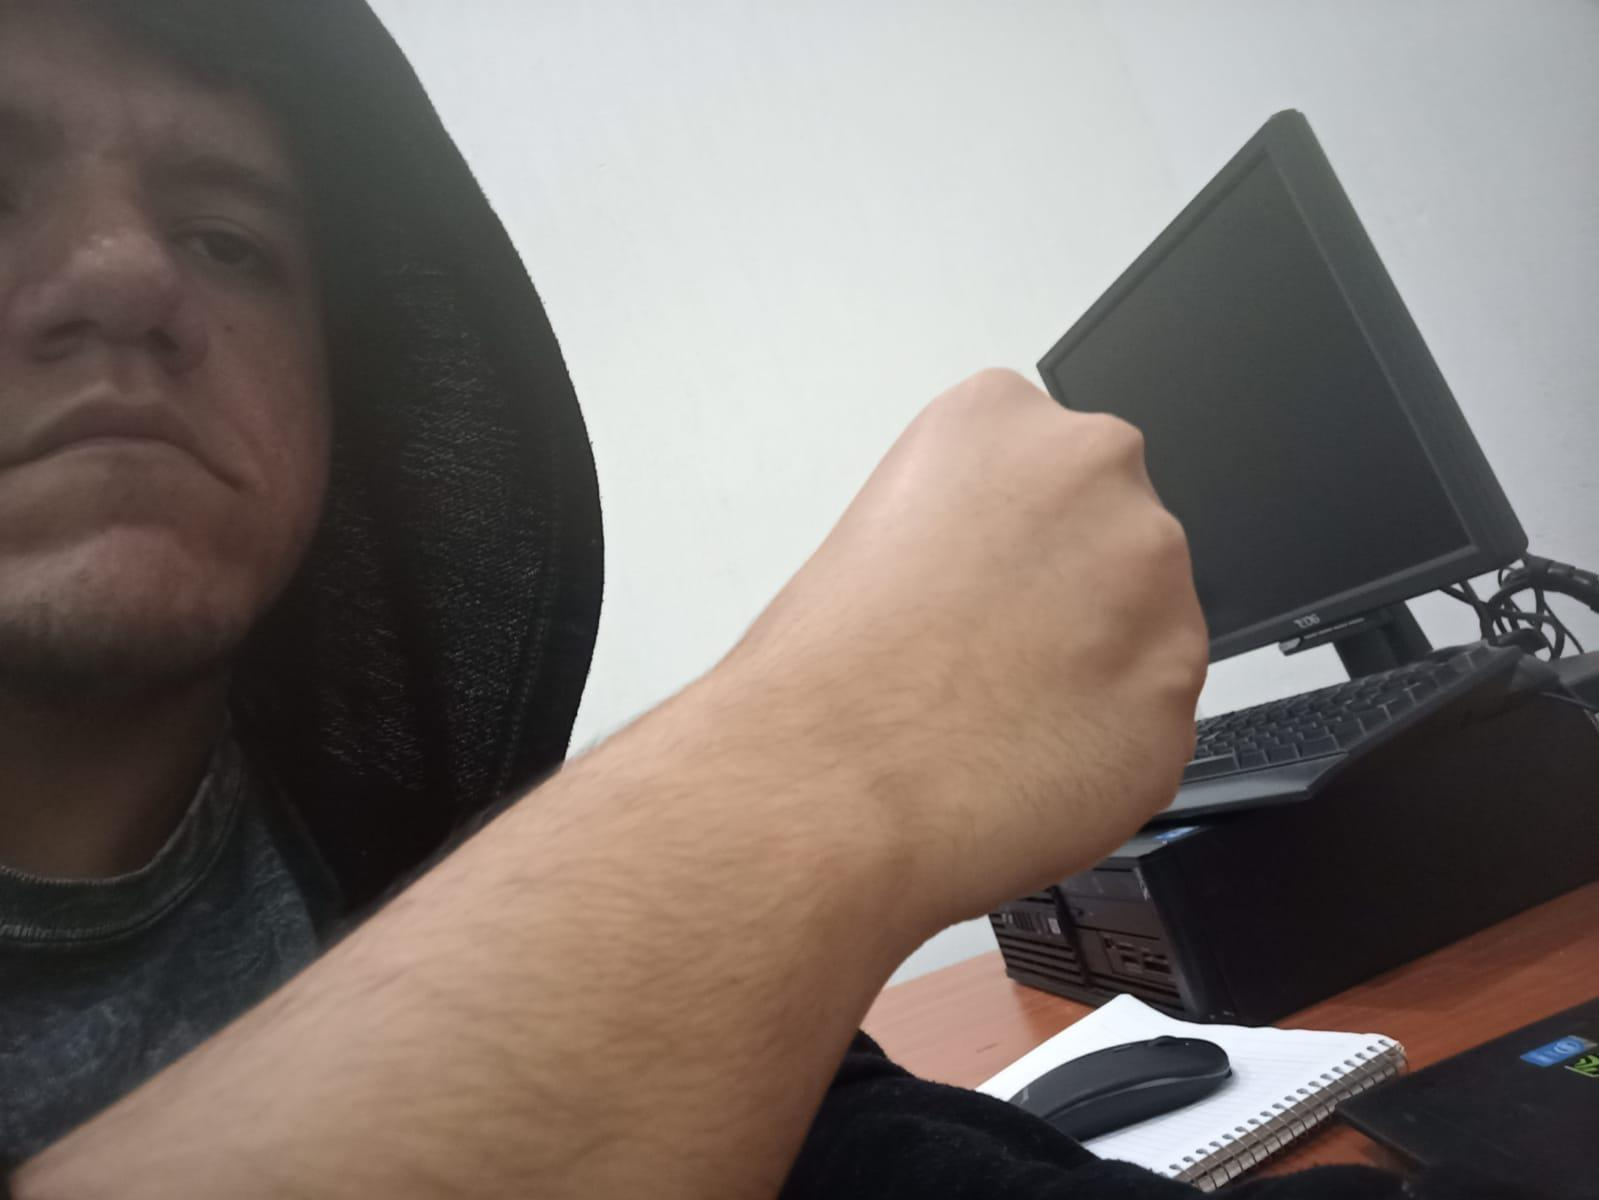Stone: (735, 348, 1263, 890)
